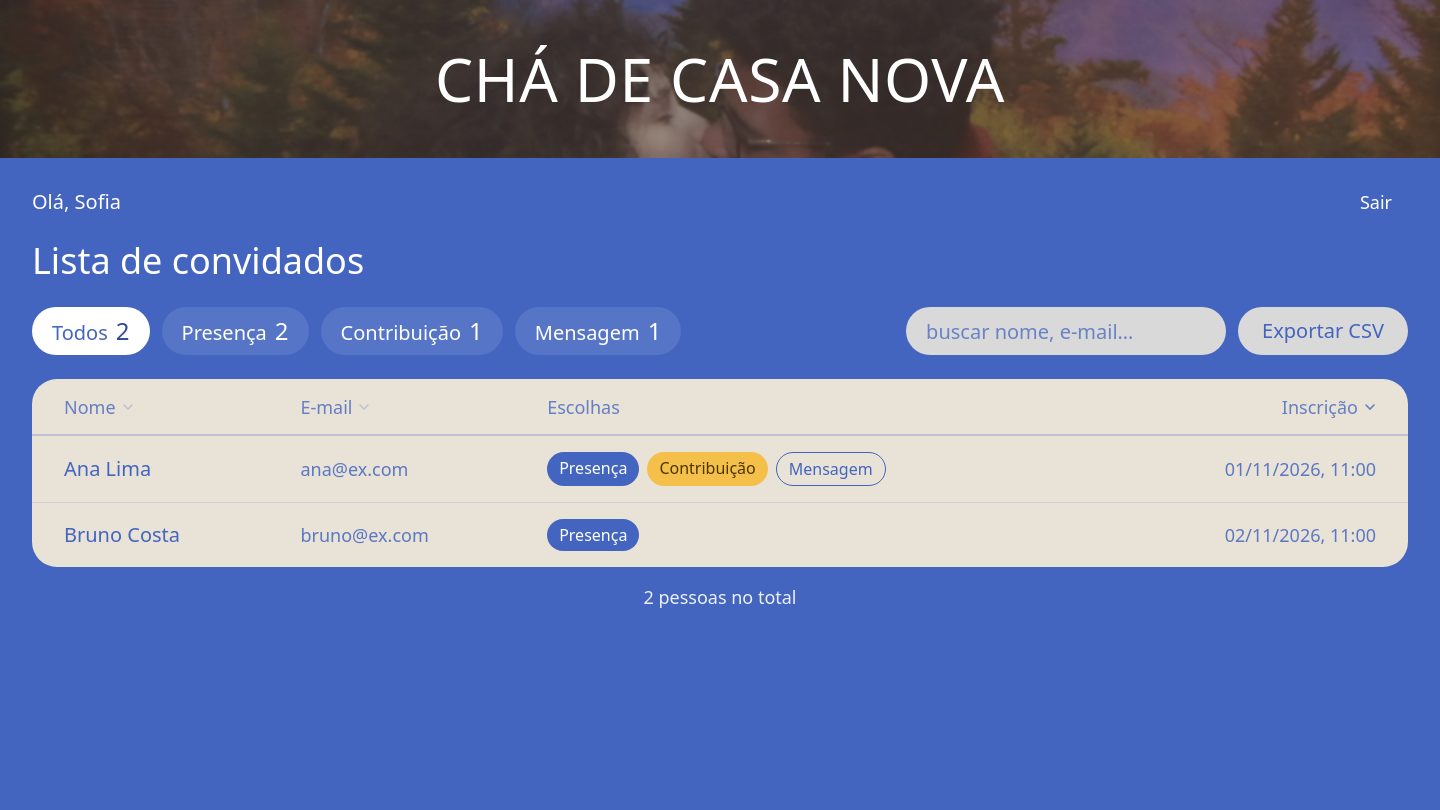
Test: área administrativa › abre os detalhes, exibe mensagens como texto e exclui após confirmação
The image size is (1440, 810).
Later steps or results of the test are not shown.
What coordinates should you click on to do the following:
click the row "Ana Lima"
I would click on:
 (720, 470)
Its box is [32,436,1408,503].
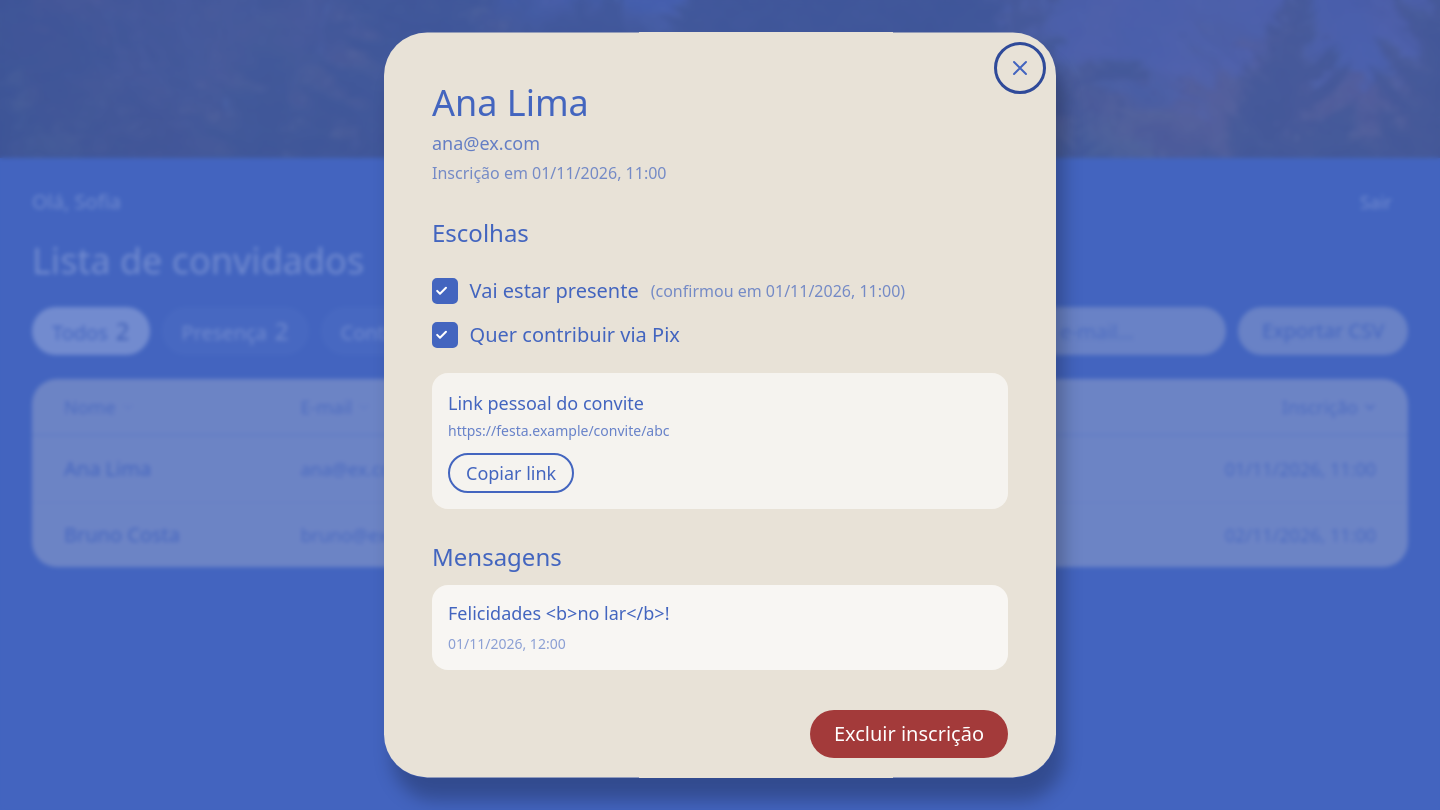
Expected: the text "Felicidades <b>no lar</b>!" is shown, [448,601,670,625]
What coordinates should you click on to do the following:
click the button "Excluir inscrição"
I would click on:
 (909, 734)
Its box is [810,710,1008,758].
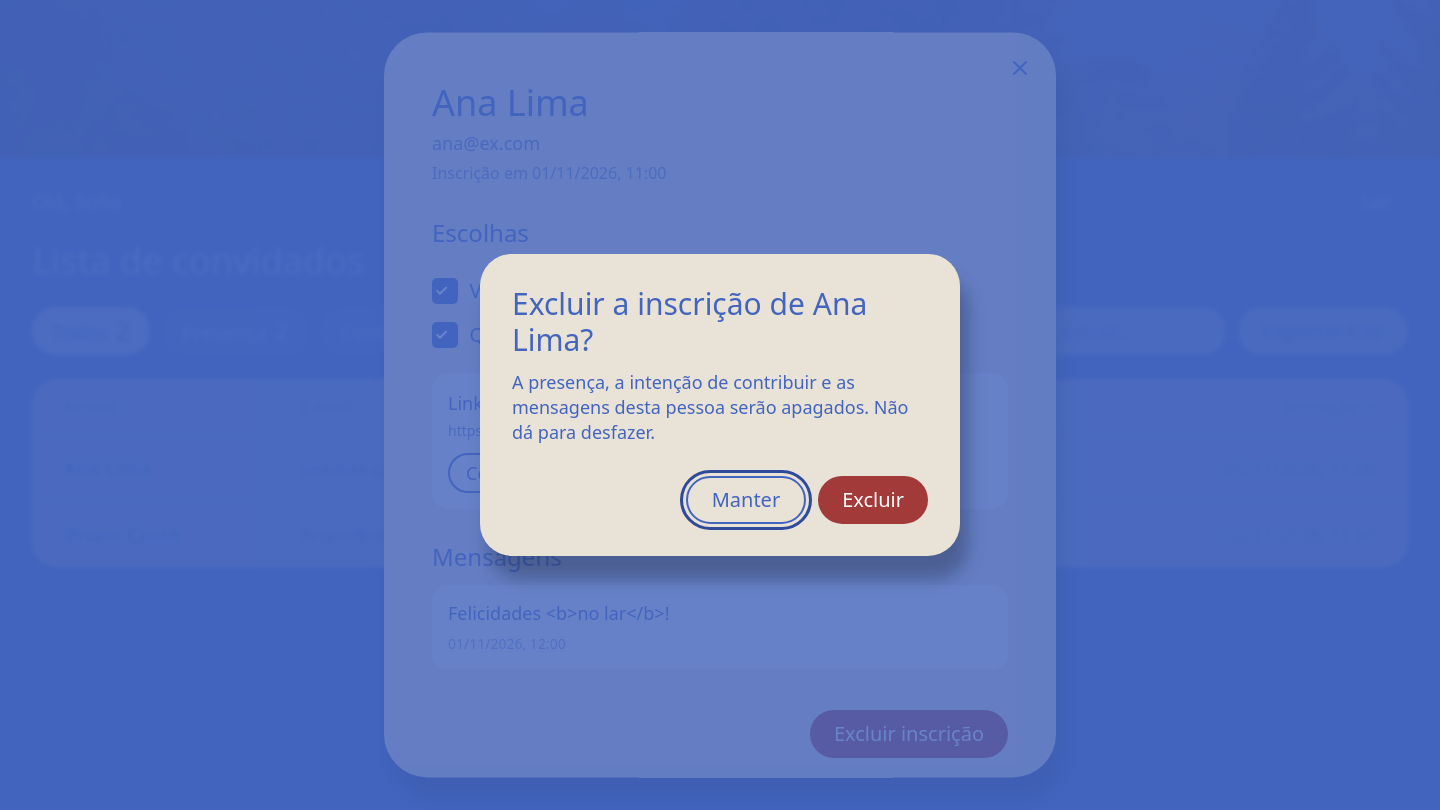
Expected: the dialog that starts with "Excluir a inscrição de" shows "Não dá para desfazer", [512,395,908,443]
